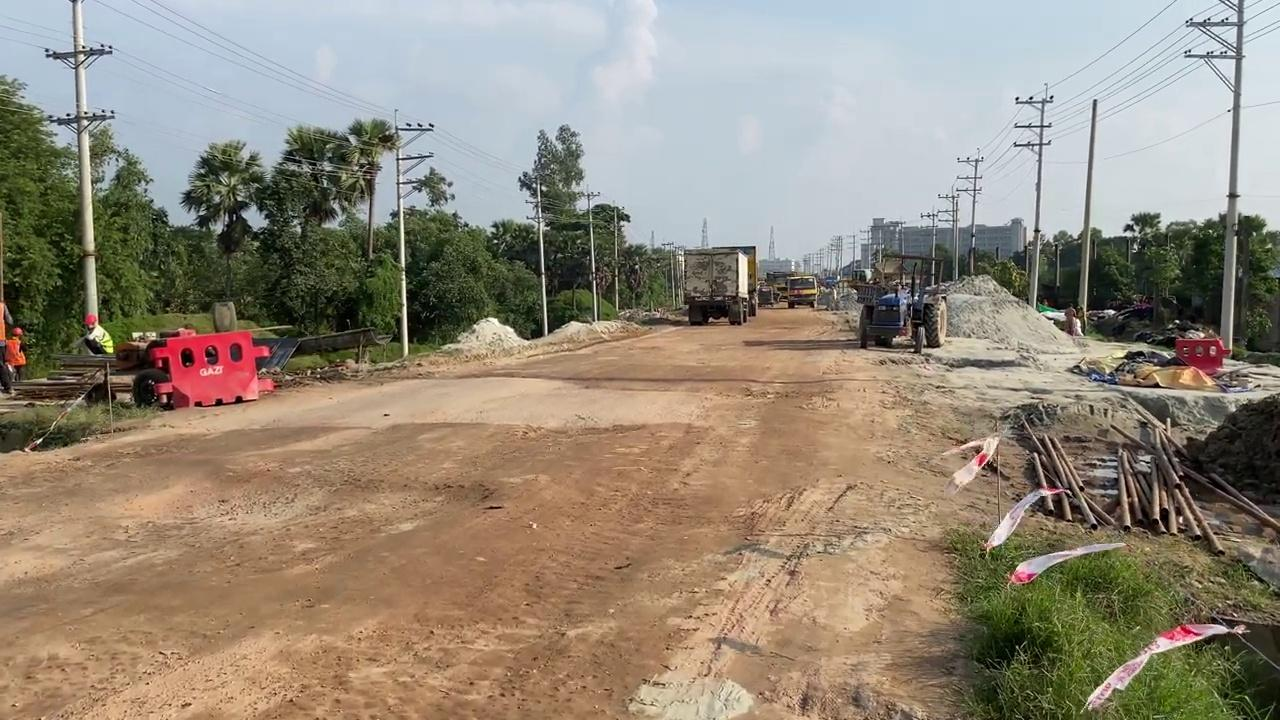Construction-barrier: (152, 328, 274, 409)
Obstacle: (1025, 408, 1206, 558)
Pole: (1218, 0, 1245, 356), (70, 0, 99, 327), (1076, 98, 1097, 334), (393, 109, 409, 356), (534, 174, 549, 336)
Traffic-sign: (178, 137, 267, 306), (517, 122, 585, 336)
Tree: (851, 253, 948, 353), (680, 245, 757, 326), (757, 268, 820, 309), (786, 273, 819, 308), (762, 270, 790, 304)
